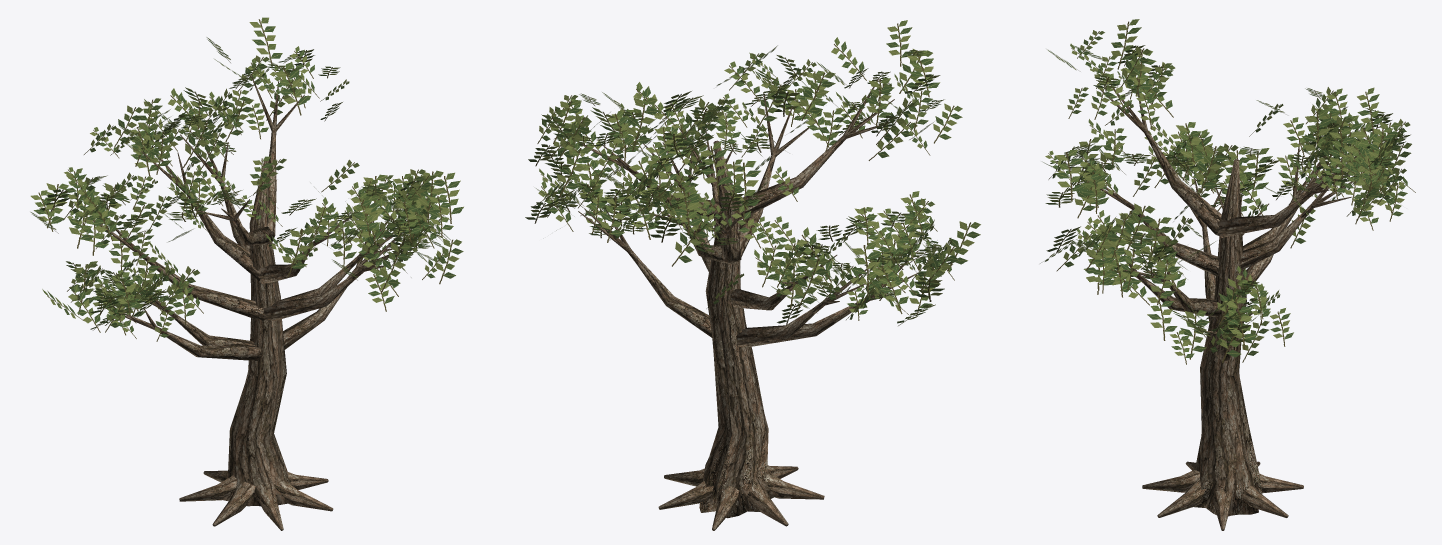
File: oak_a.glb
3 views of the same model, side by side, from view 1: azimuth 30°, elevation 25°; view 2: azimuth 150°, elevation 25°; view 3: azimuth 270°, elevation 25° (orthographic). The views are drawn at different scales.
Visible parts, largest first — view 1: OakFoliage, OakBark; view 2: OakFoliage, OakBark; view 3: OakFoliage, OakBark.
Part boxes in pixels (x1,y1,x2,y2): OakFoliage: [30, 17, 463, 341]; OakBark: [93, 75, 403, 530]; OakFoliage: [525, 20, 980, 325]; OakBark: [578, 78, 918, 530]; OakFoliage: [1040, 19, 1415, 364]; OakBark: [1088, 88, 1360, 530].
Bounding box in the file's own units: 7 × 6.92 × 5.82.
Materials: 2 (2 with a texture image).
